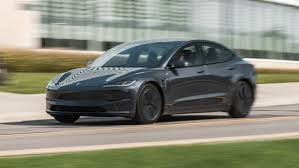car: (45, 40, 260, 126)
